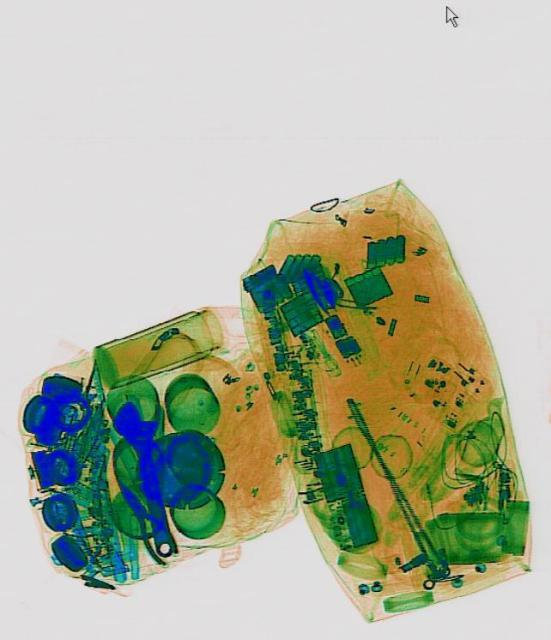Pliers: (113, 478, 180, 566)
Wrench: (108, 395, 185, 561)
